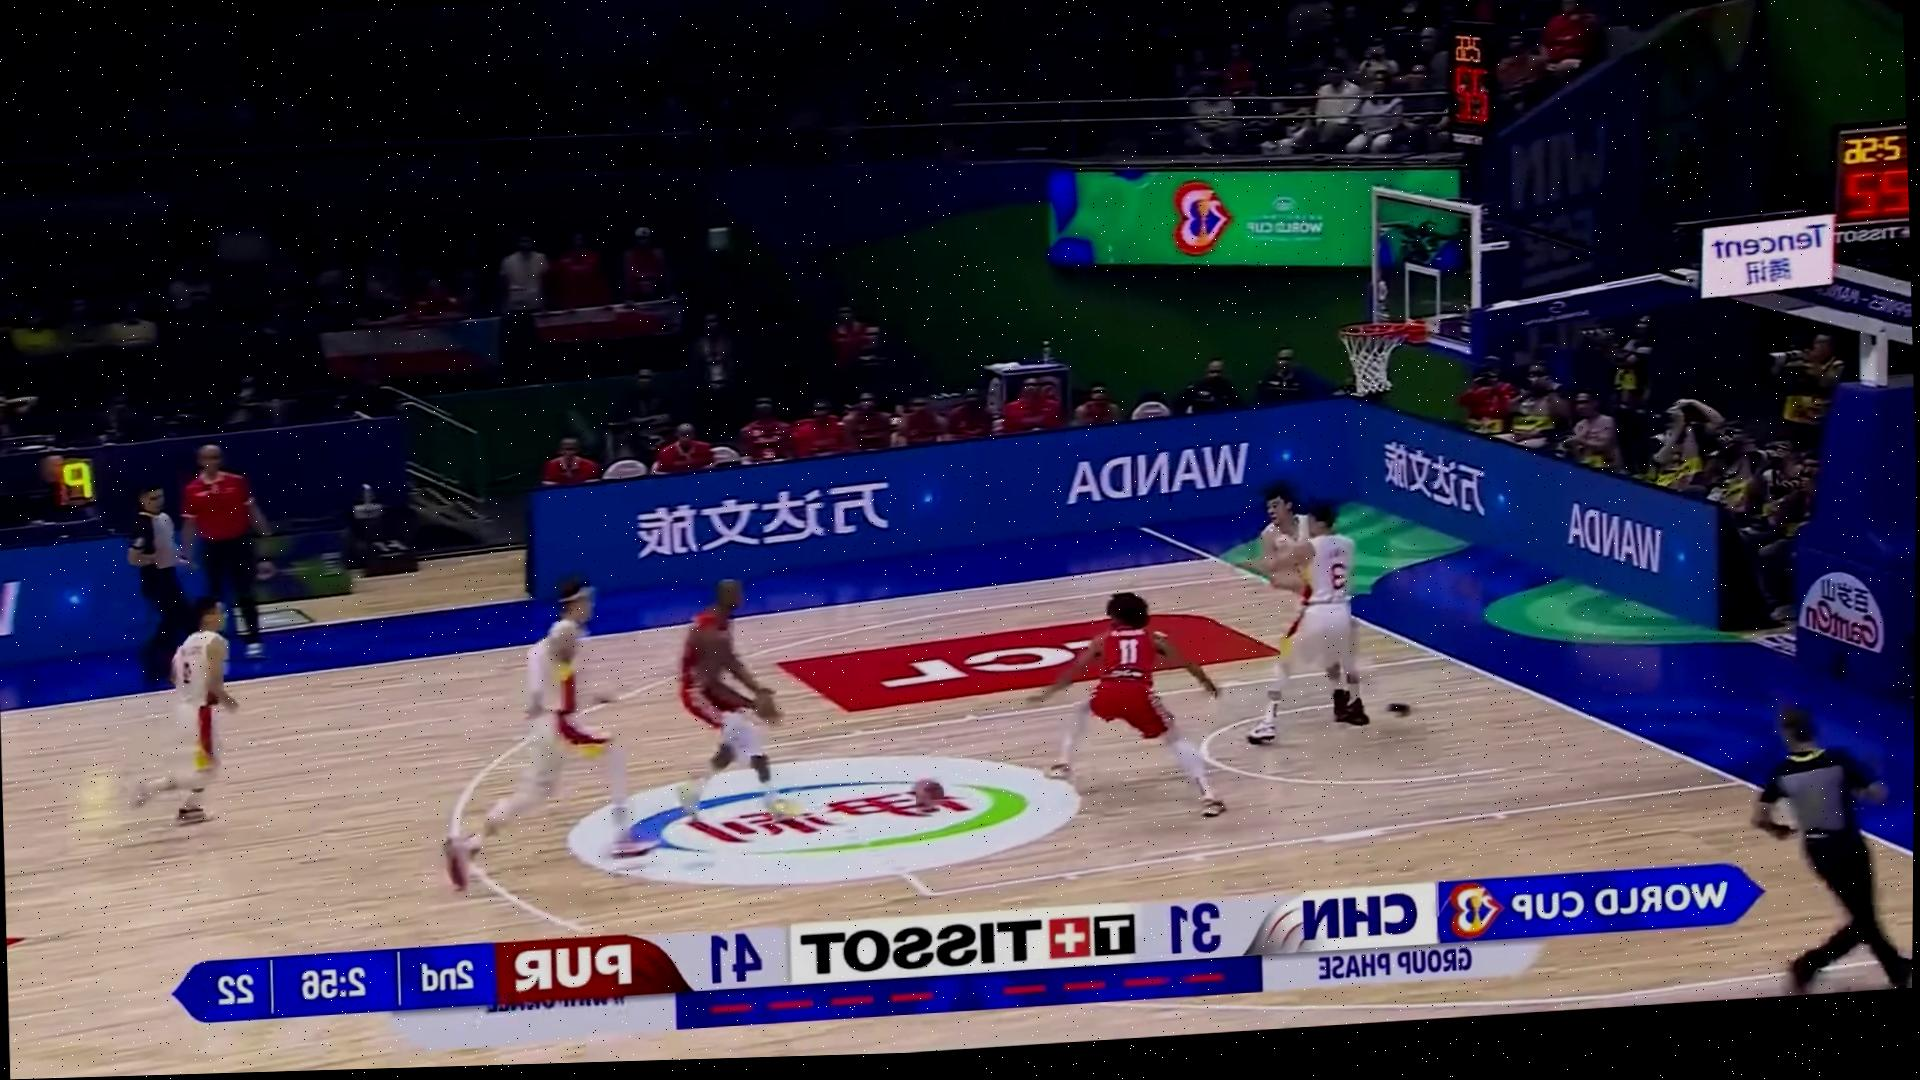no_foul: (458, 555, 796, 873)
